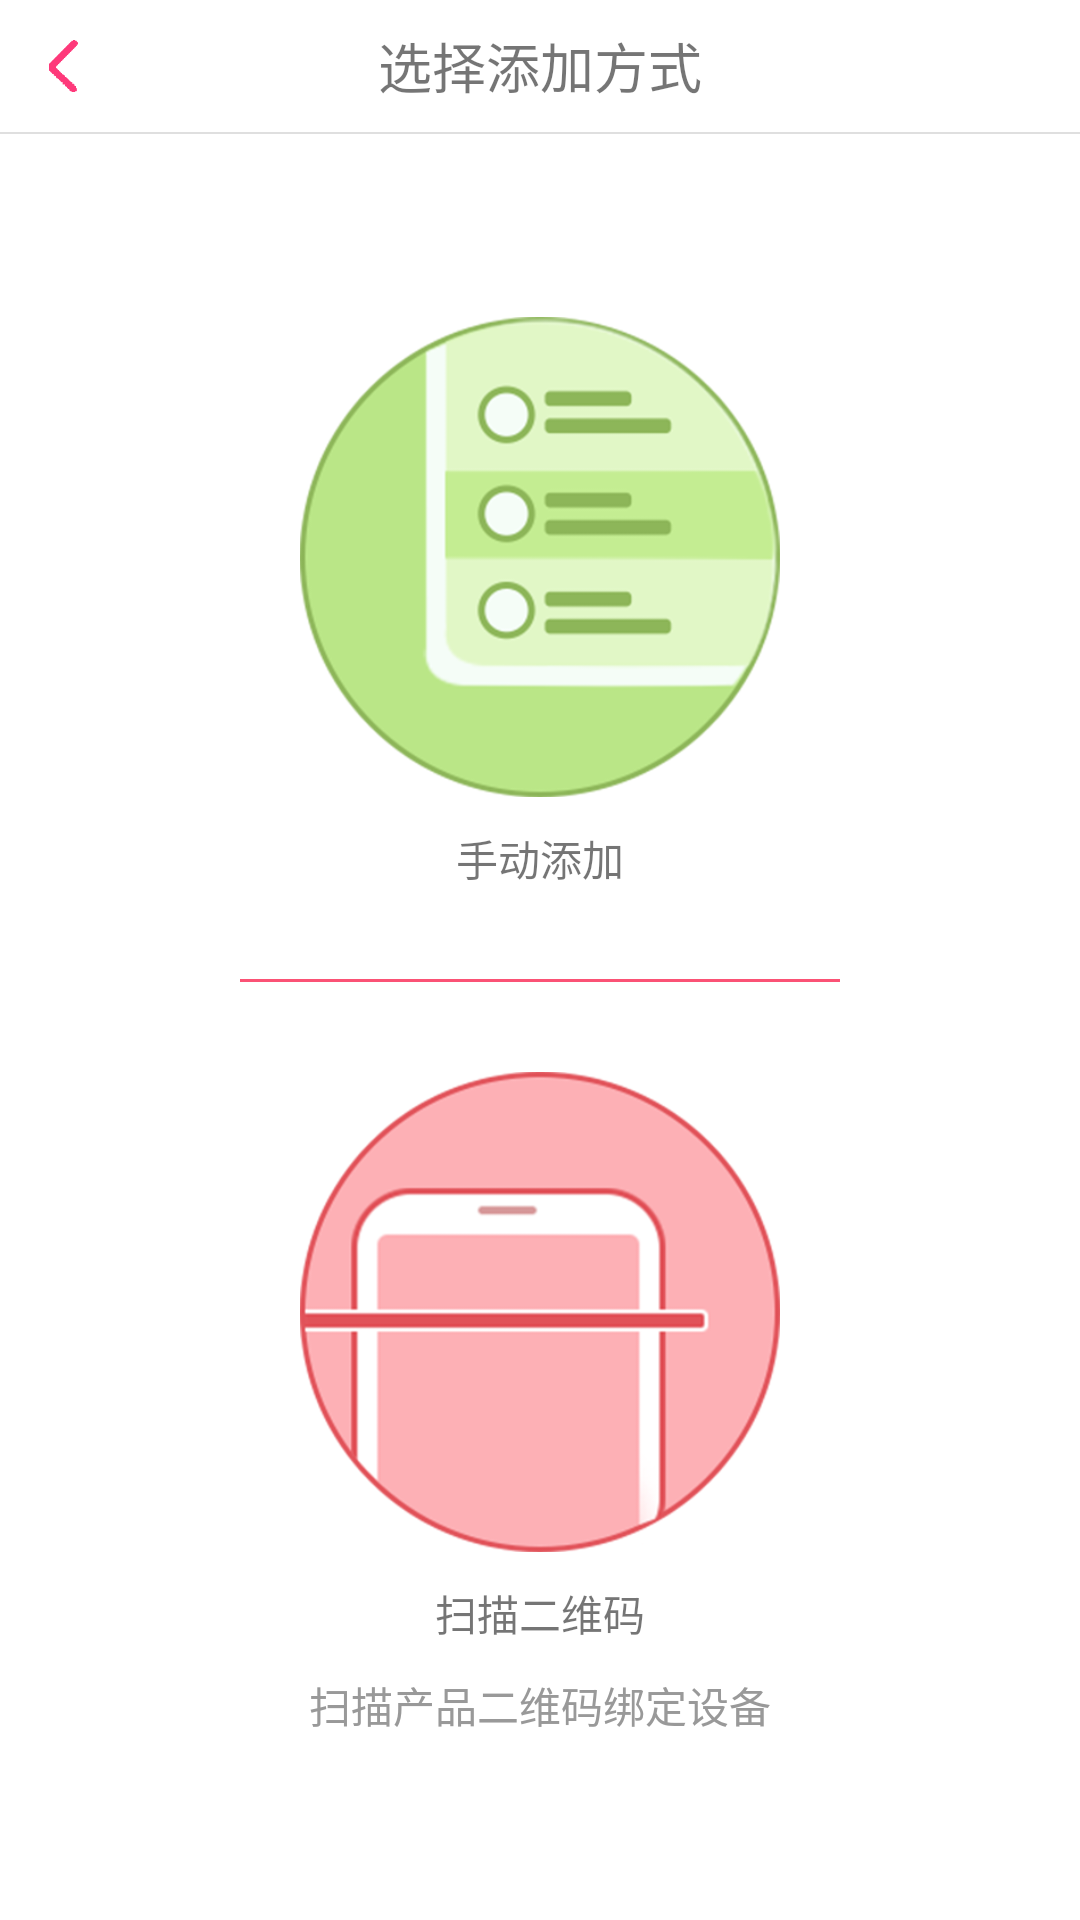

Icon bounding boxes for this 1080*1920 phone screenshot, format (x1, y1, x2, y2):
left arrow: (49, 40, 78, 92)
